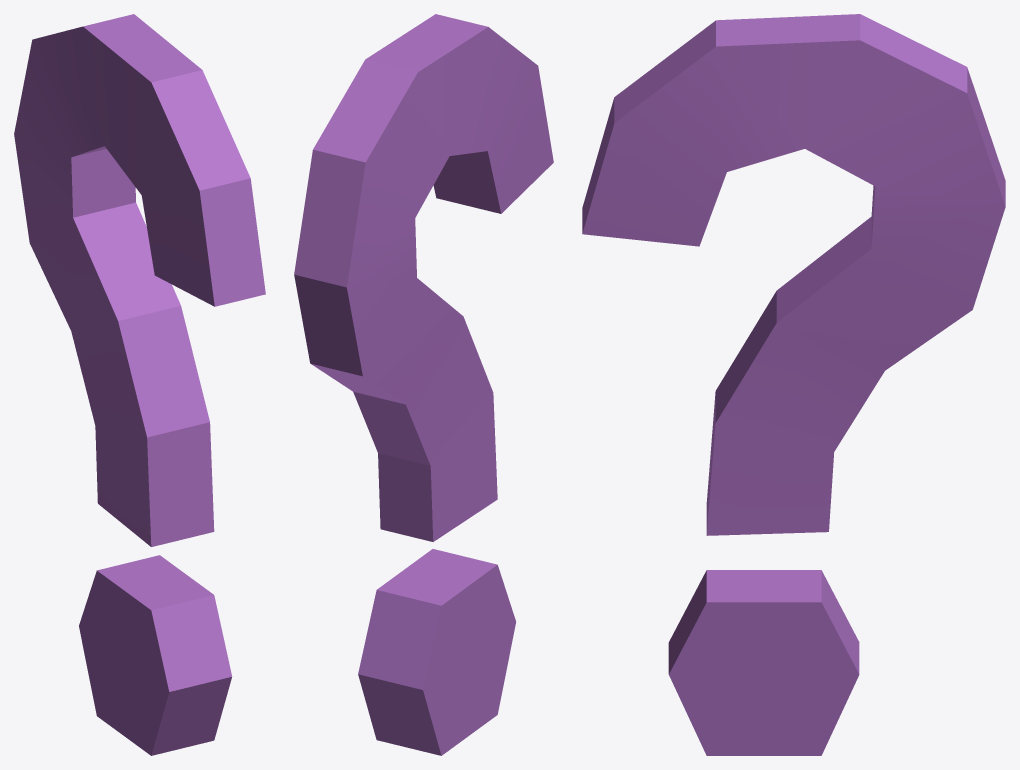
Rendered from question.fbx.
3 renders of one model, left to right at view 1: azimuth 30°, elevation 25°; view 2: azimuth 150°, elevation 25°; view 3: azimuth 270°, elevation 25°, orthographic. The views are drawn at different scales.
Visible parts, largest first — view 1: question; view 2: question; view 3: question.
Part boxes in pixels (x1,y1,x2,y2): question: [14, 14, 265, 755]; question: [294, 14, 553, 755]; question: [582, 14, 1005, 755].
Size of the model in its own units: 28.45 by 291 by 157.
